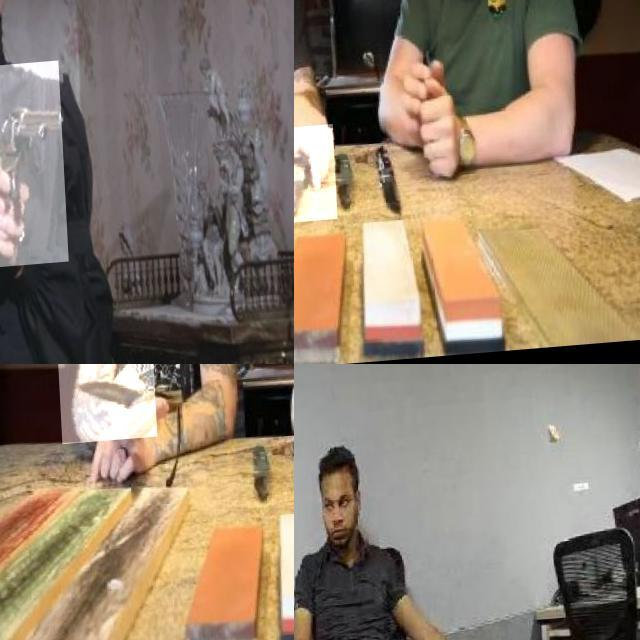-: (54, 364, 152, 446), (294, 129, 332, 228)
gun-knife-thesis - v11 Yolov5 augmented: (0, 66, 63, 274)
